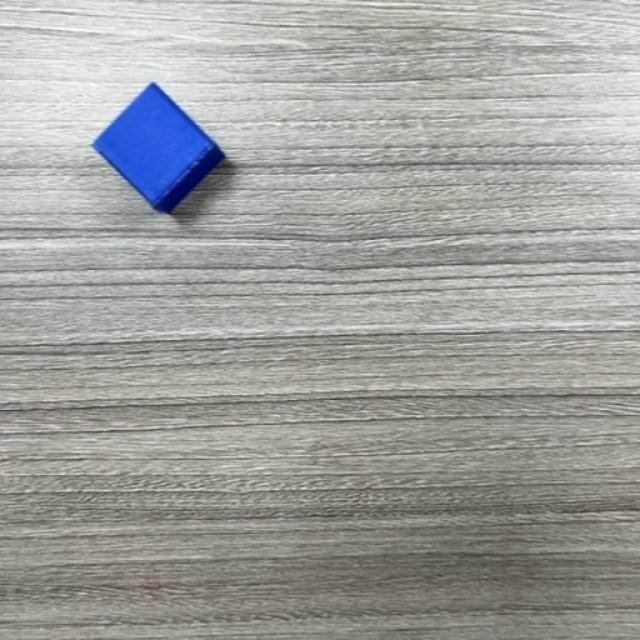Azul: (90, 82, 226, 215)
